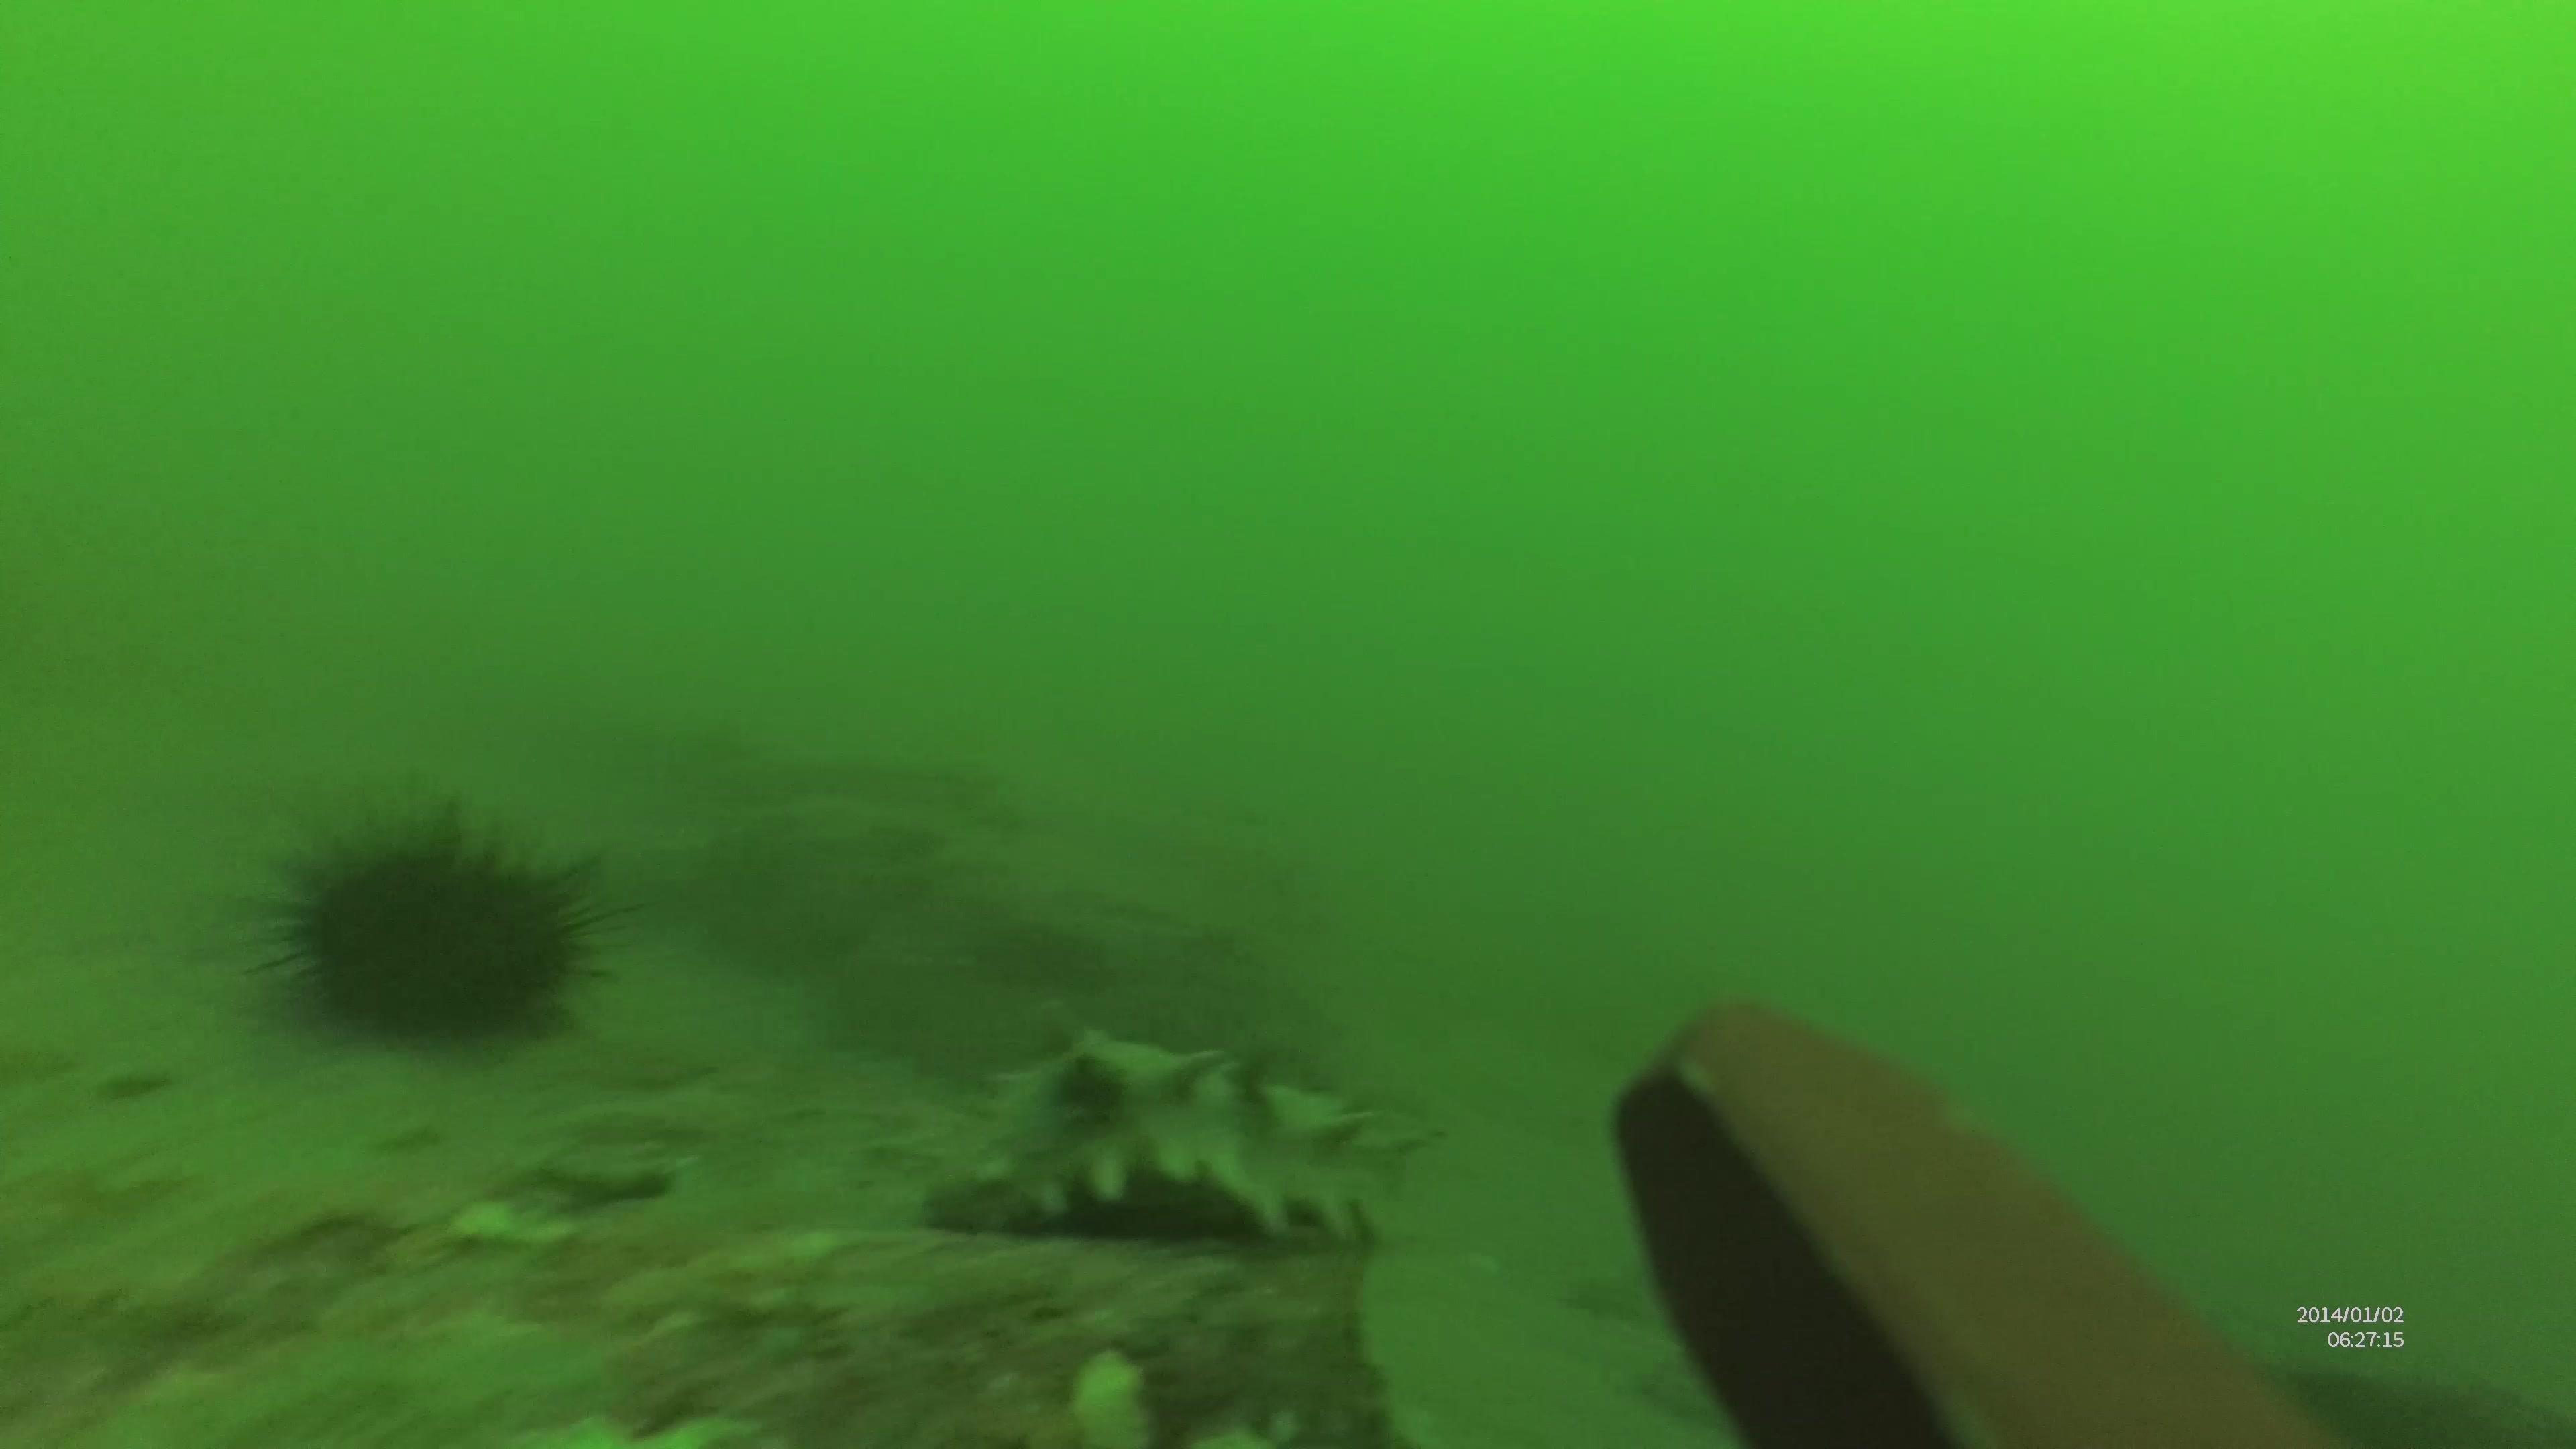echinus: (235, 810, 591, 1054)
holothurian: (913, 1031, 1419, 1260)
